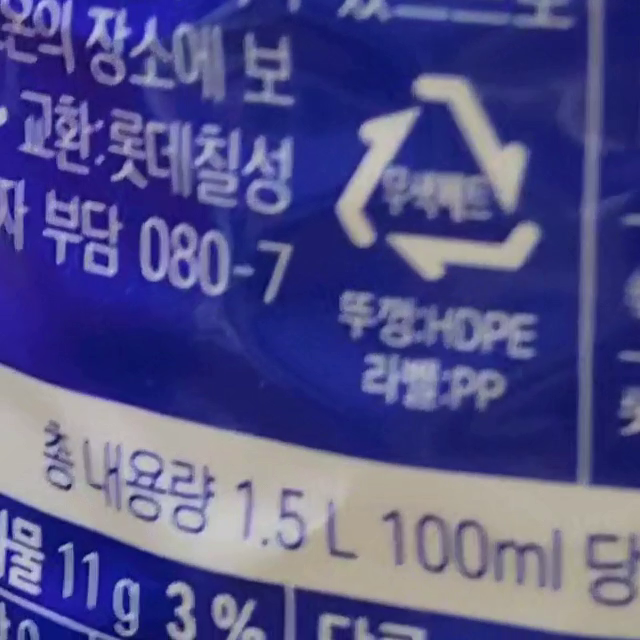ColorlessPet: (336, 75, 537, 281)
